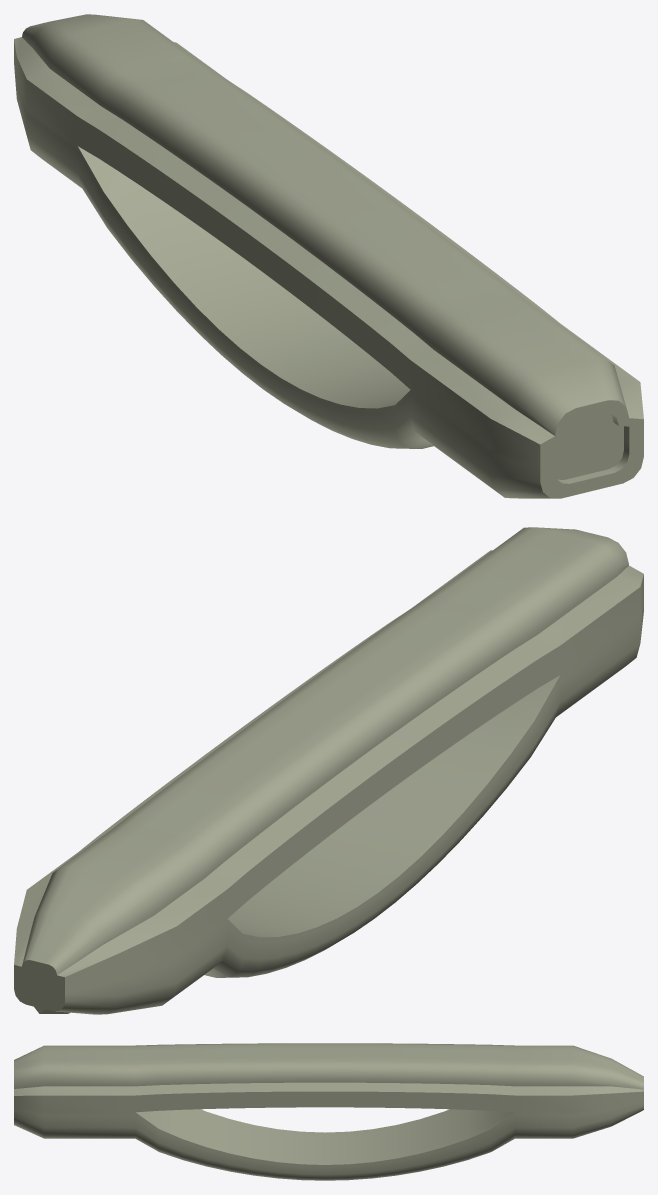
The model's file is kelvane_cruiser.glb.
3 renders of one model, top to bottom at view 1: azimuth 30°, elevation 25°; view 2: azimuth 150°, elevation 25°; view 3: azimuth 270°, elevation 25°, orthographic. The views are drawn at different scales.
Visible parts, largest first — view 1: hull; view 2: hull; view 3: hull.
Part boxes in pixels (x1,y1,x2,y2): hull: [14, 14, 643, 498]; hull: [14, 527, 643, 1014]; hull: [14, 1043, 643, 1180].
Bounding box in the file's own units: 26 × 34.36 × 166.
